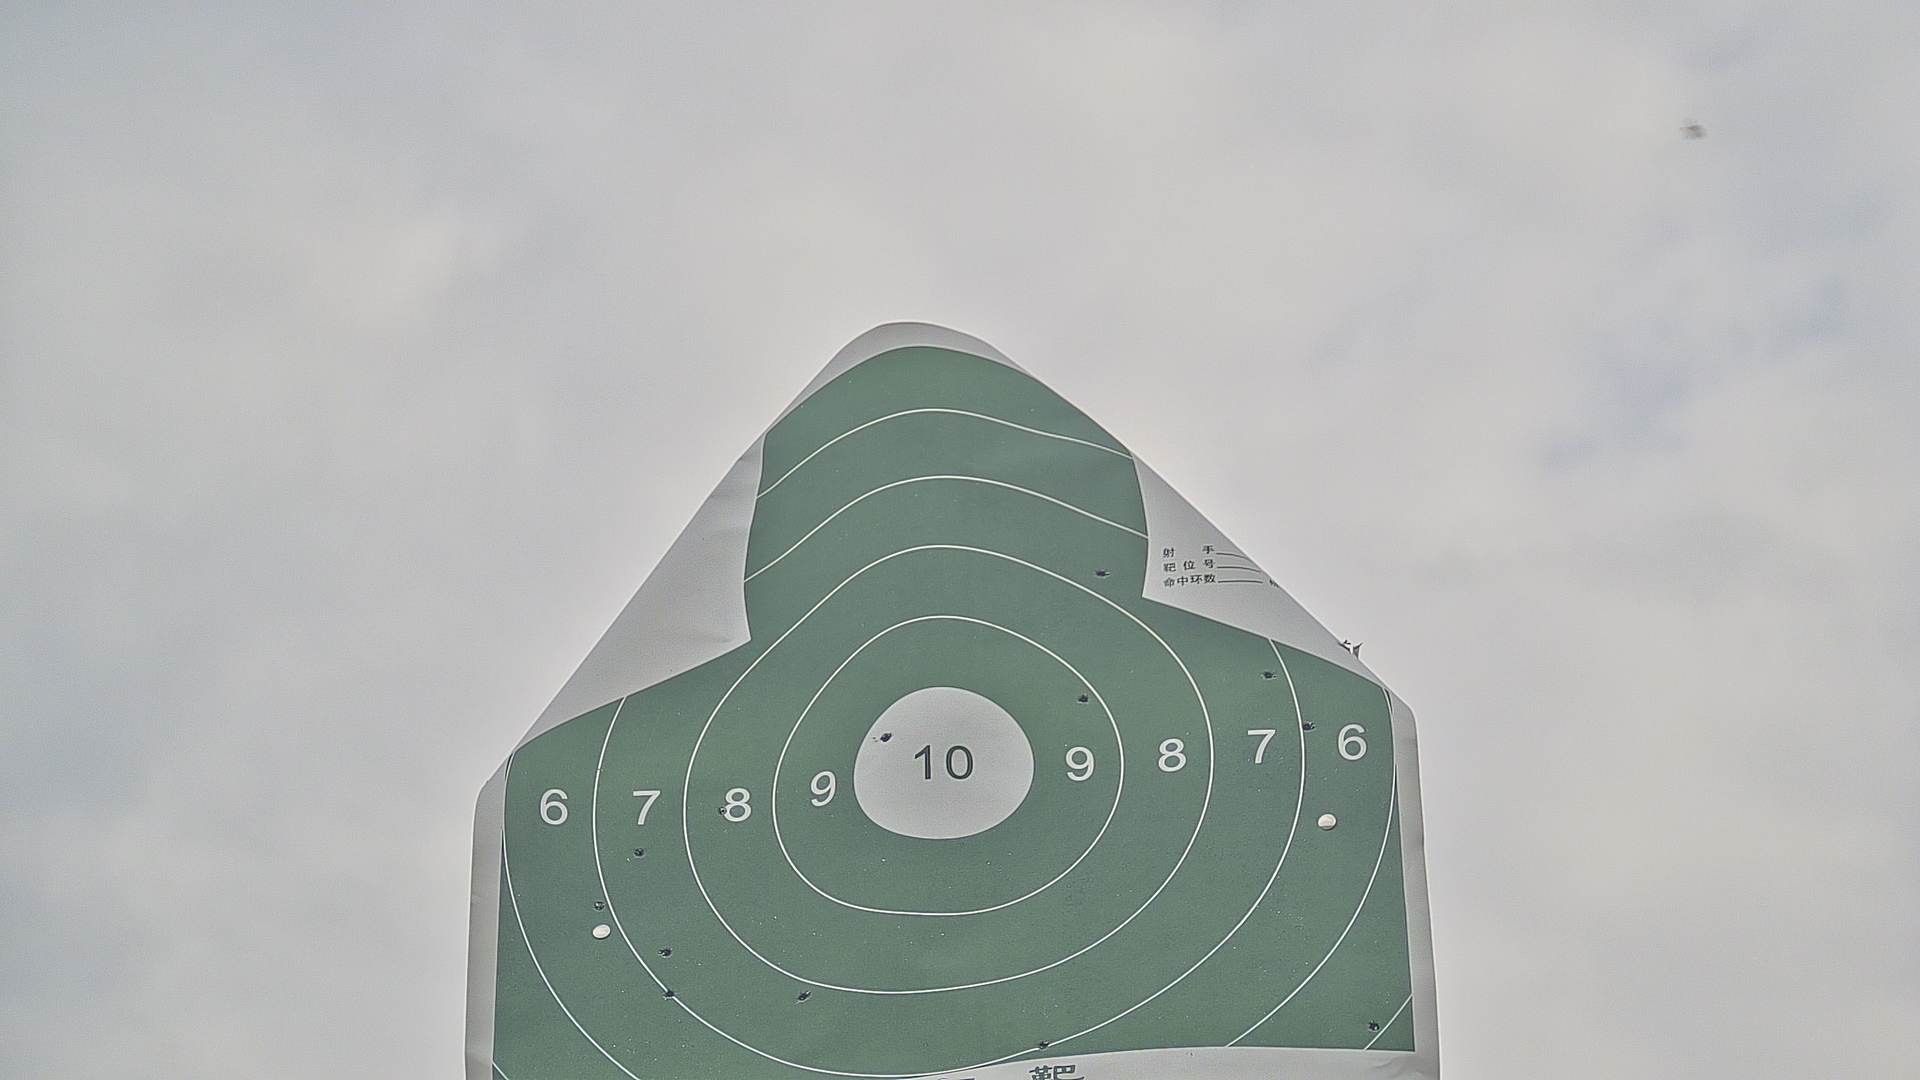hole: (1302, 719, 1315, 735), (1077, 691, 1089, 705), (1262, 667, 1275, 679), (715, 804, 728, 816), (593, 899, 605, 913), (880, 731, 891, 742), (634, 847, 646, 858), (1367, 1021, 1379, 1033), (1095, 568, 1108, 579), (796, 992, 810, 1002), (661, 947, 673, 957), (1036, 1040, 1048, 1051), (665, 986, 675, 997)
kernel: (935, 765, 942, 767)
target: (493, 345, 1419, 1079)
ten: (852, 684, 1033, 843)
